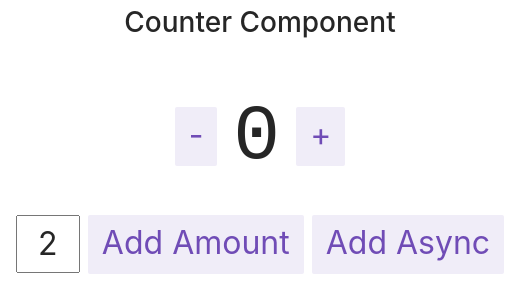
Test: ex3 <Counter /> --- uses @reduxjs/toolkit › decrements the value
Click the button named "decrement value".
click(196, 136)  # box [175,107,217,166]
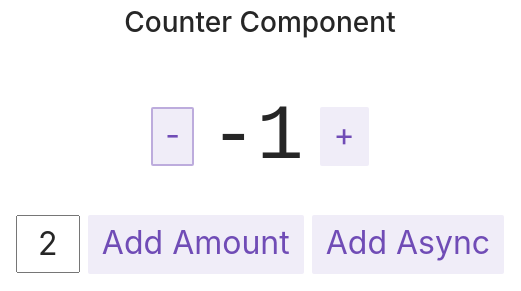
Expected: the text "-1" is shown, [210,93,304,181]
